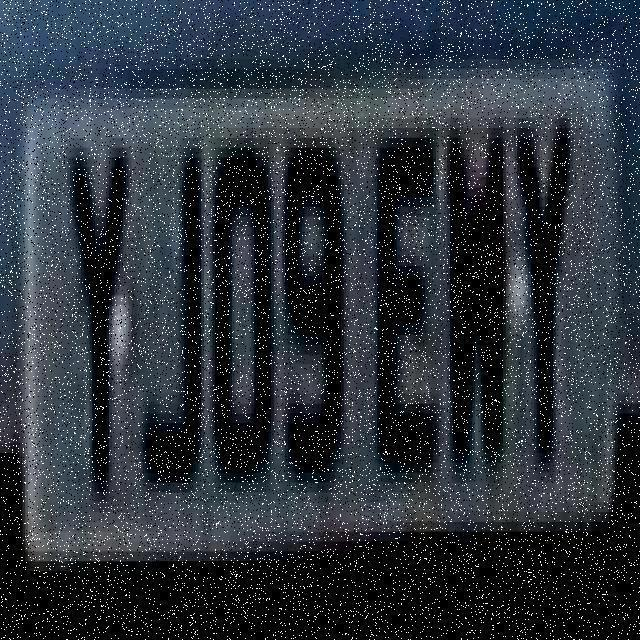License Plate: (11, 31, 634, 610)
